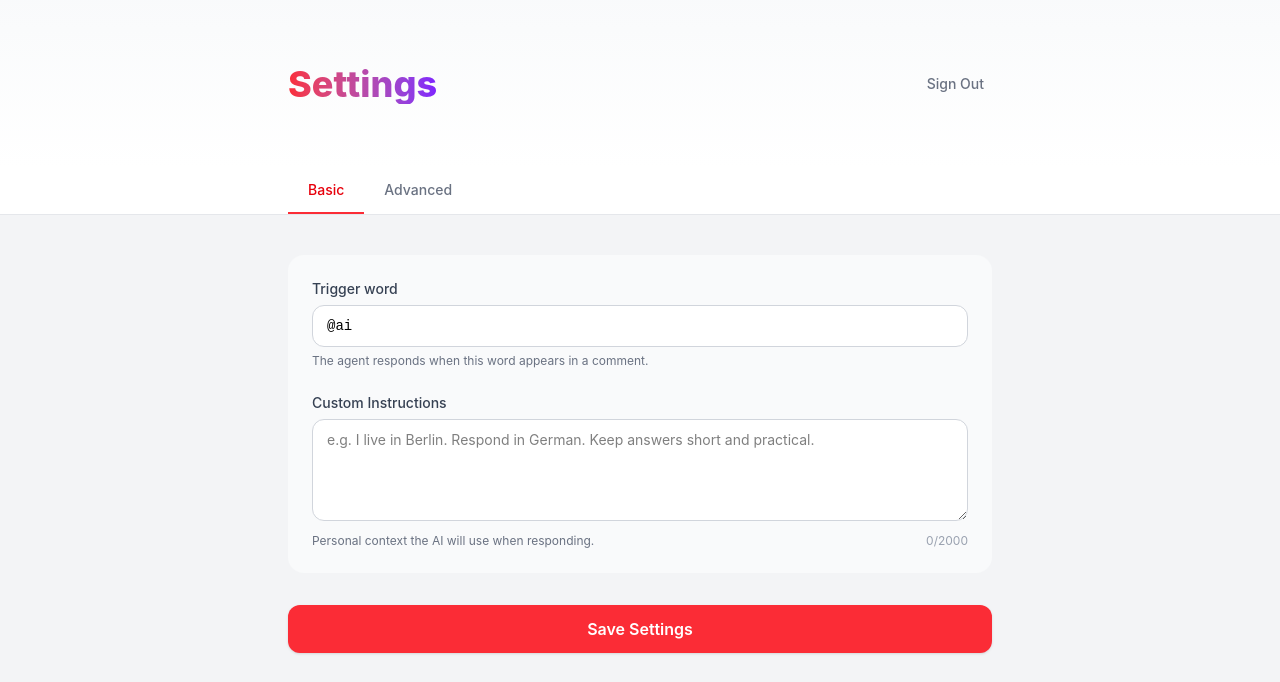
Scenario: Settings: save › shows disabled message on 403 during save
The image size is (1280, 682).
Expected: the heading "Settings" is shown, [288,64,437,104]
Click the button "Save Settings".
click(640, 629)  # box [288,605,992,653]
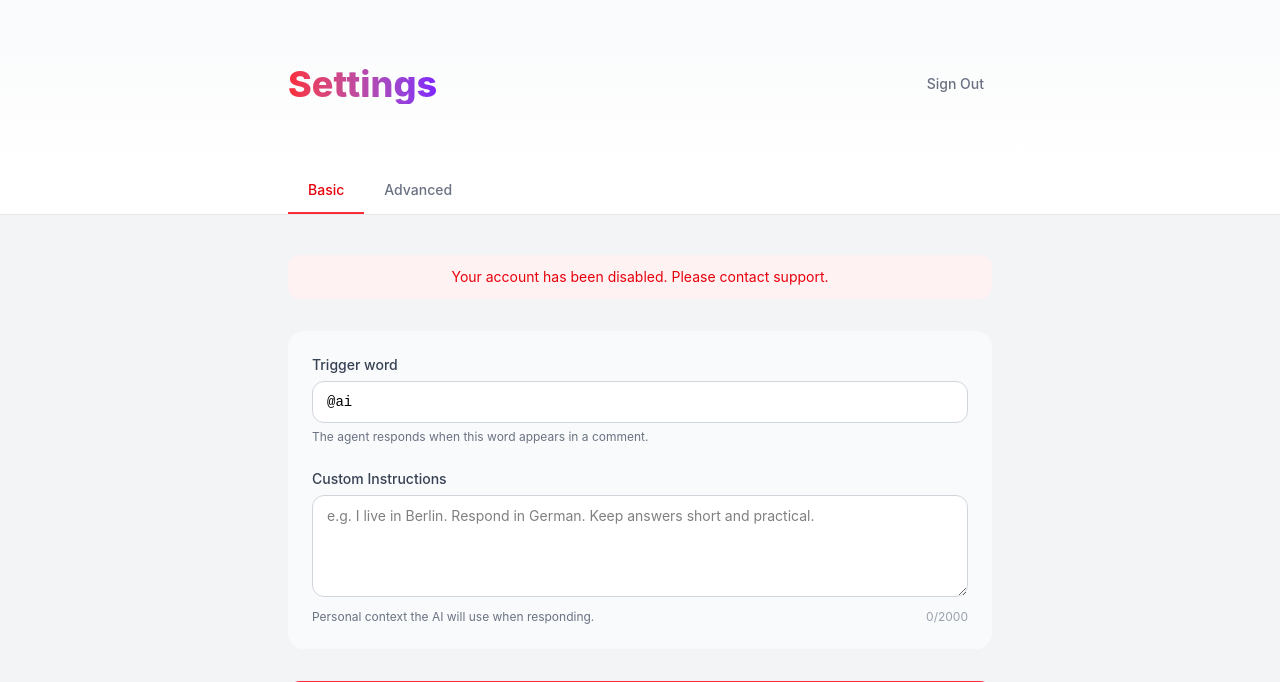
Expected: the text "Your account has been disabled. Please contact support." is shown, [288,255,992,299]
